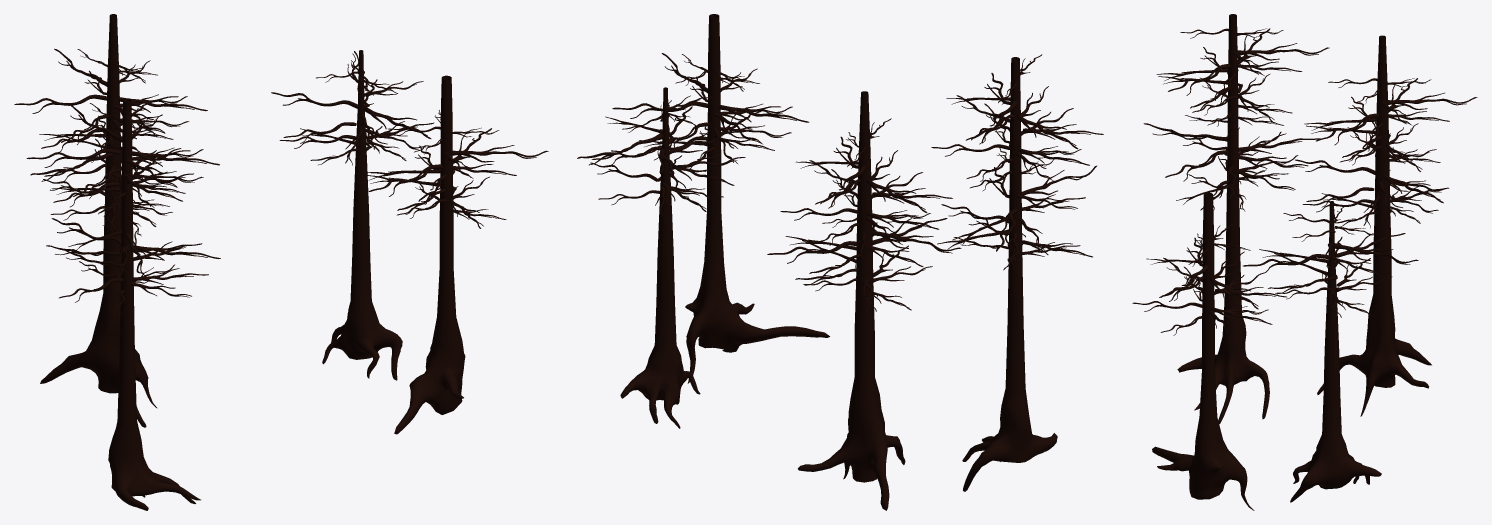
Rendered from Tree Position.FBX.
The picture shows the model from 3 angles, left to right: view 1: azimuth 30°, elevation 25°; view 2: azimuth 150°, elevation 25°; view 3: azimuth 270°, elevation 25°; orthographic projection. The views are drawn at different scales.
Visible parts, largest first — view 1: Object002, Object003, Object001, Object004; view 2: Object003, Object002, Object001, Object004; view 3: Object003, Object002, Object001, Object004.
Part boxes in pixels (x1,y1,x2,y2): Object002: (26, 98, 220, 510); Object003: (14, 14, 207, 427); Object001: (362, 75, 548, 434); Object004: (271, 50, 433, 380); Object003: (767, 91, 961, 510); Object002: (931, 54, 1103, 491); Object001: (612, 14, 829, 383); Object004: (577, 87, 745, 428); Object003: (1295, 35, 1477, 416); Object002: (1143, 14, 1329, 424); Object001: (1132, 192, 1286, 510); Object004: (1242, 201, 1418, 502).
Size of the model in its own units: 9239 by 8132 by 6401.
